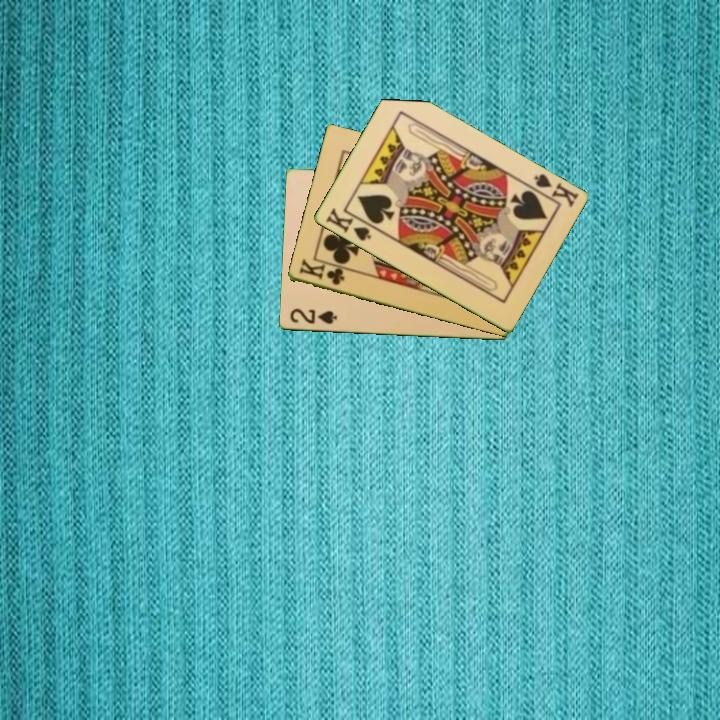2s: (286, 305, 340, 327)
Kc: (295, 256, 347, 288)
Ks: (524, 170, 581, 211), (322, 205, 374, 244)
